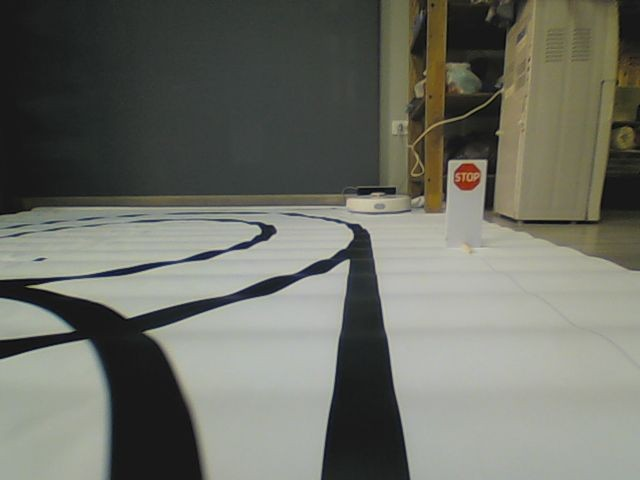Stop: (452, 163, 482, 190)
